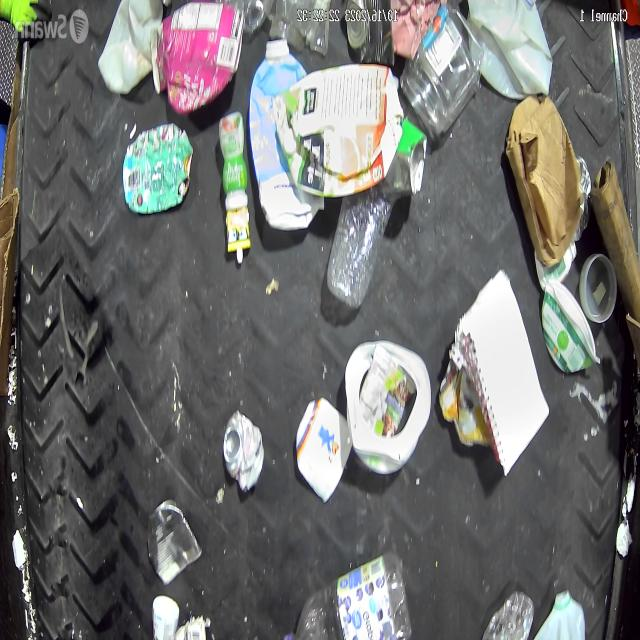can: (148, 500, 202, 584), (222, 408, 264, 494), (346, 0, 395, 66)
milk_jug: (462, 0, 552, 100), (97, 1, 162, 96), (533, 586, 587, 640)
non_white_jug: (272, 65, 405, 198), (154, 2, 242, 114), (122, 122, 193, 215)
plastic_bottle: (399, 3, 484, 140), (288, 553, 412, 640), (327, 188, 398, 308), (483, 589, 533, 640)
